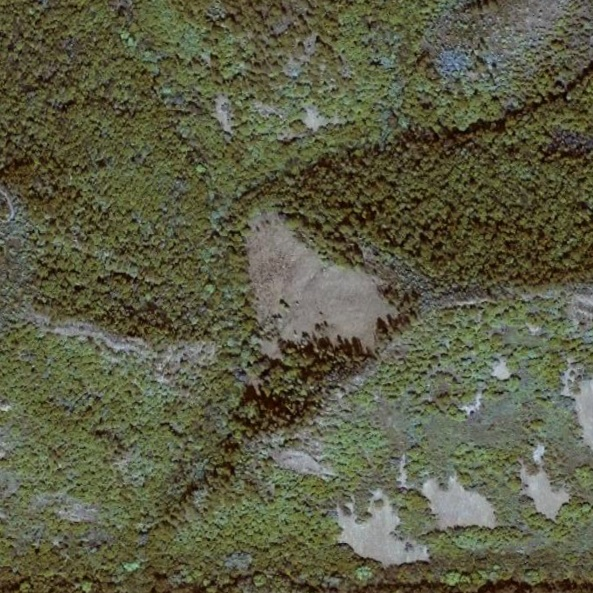slope: (235, 210, 410, 363)
